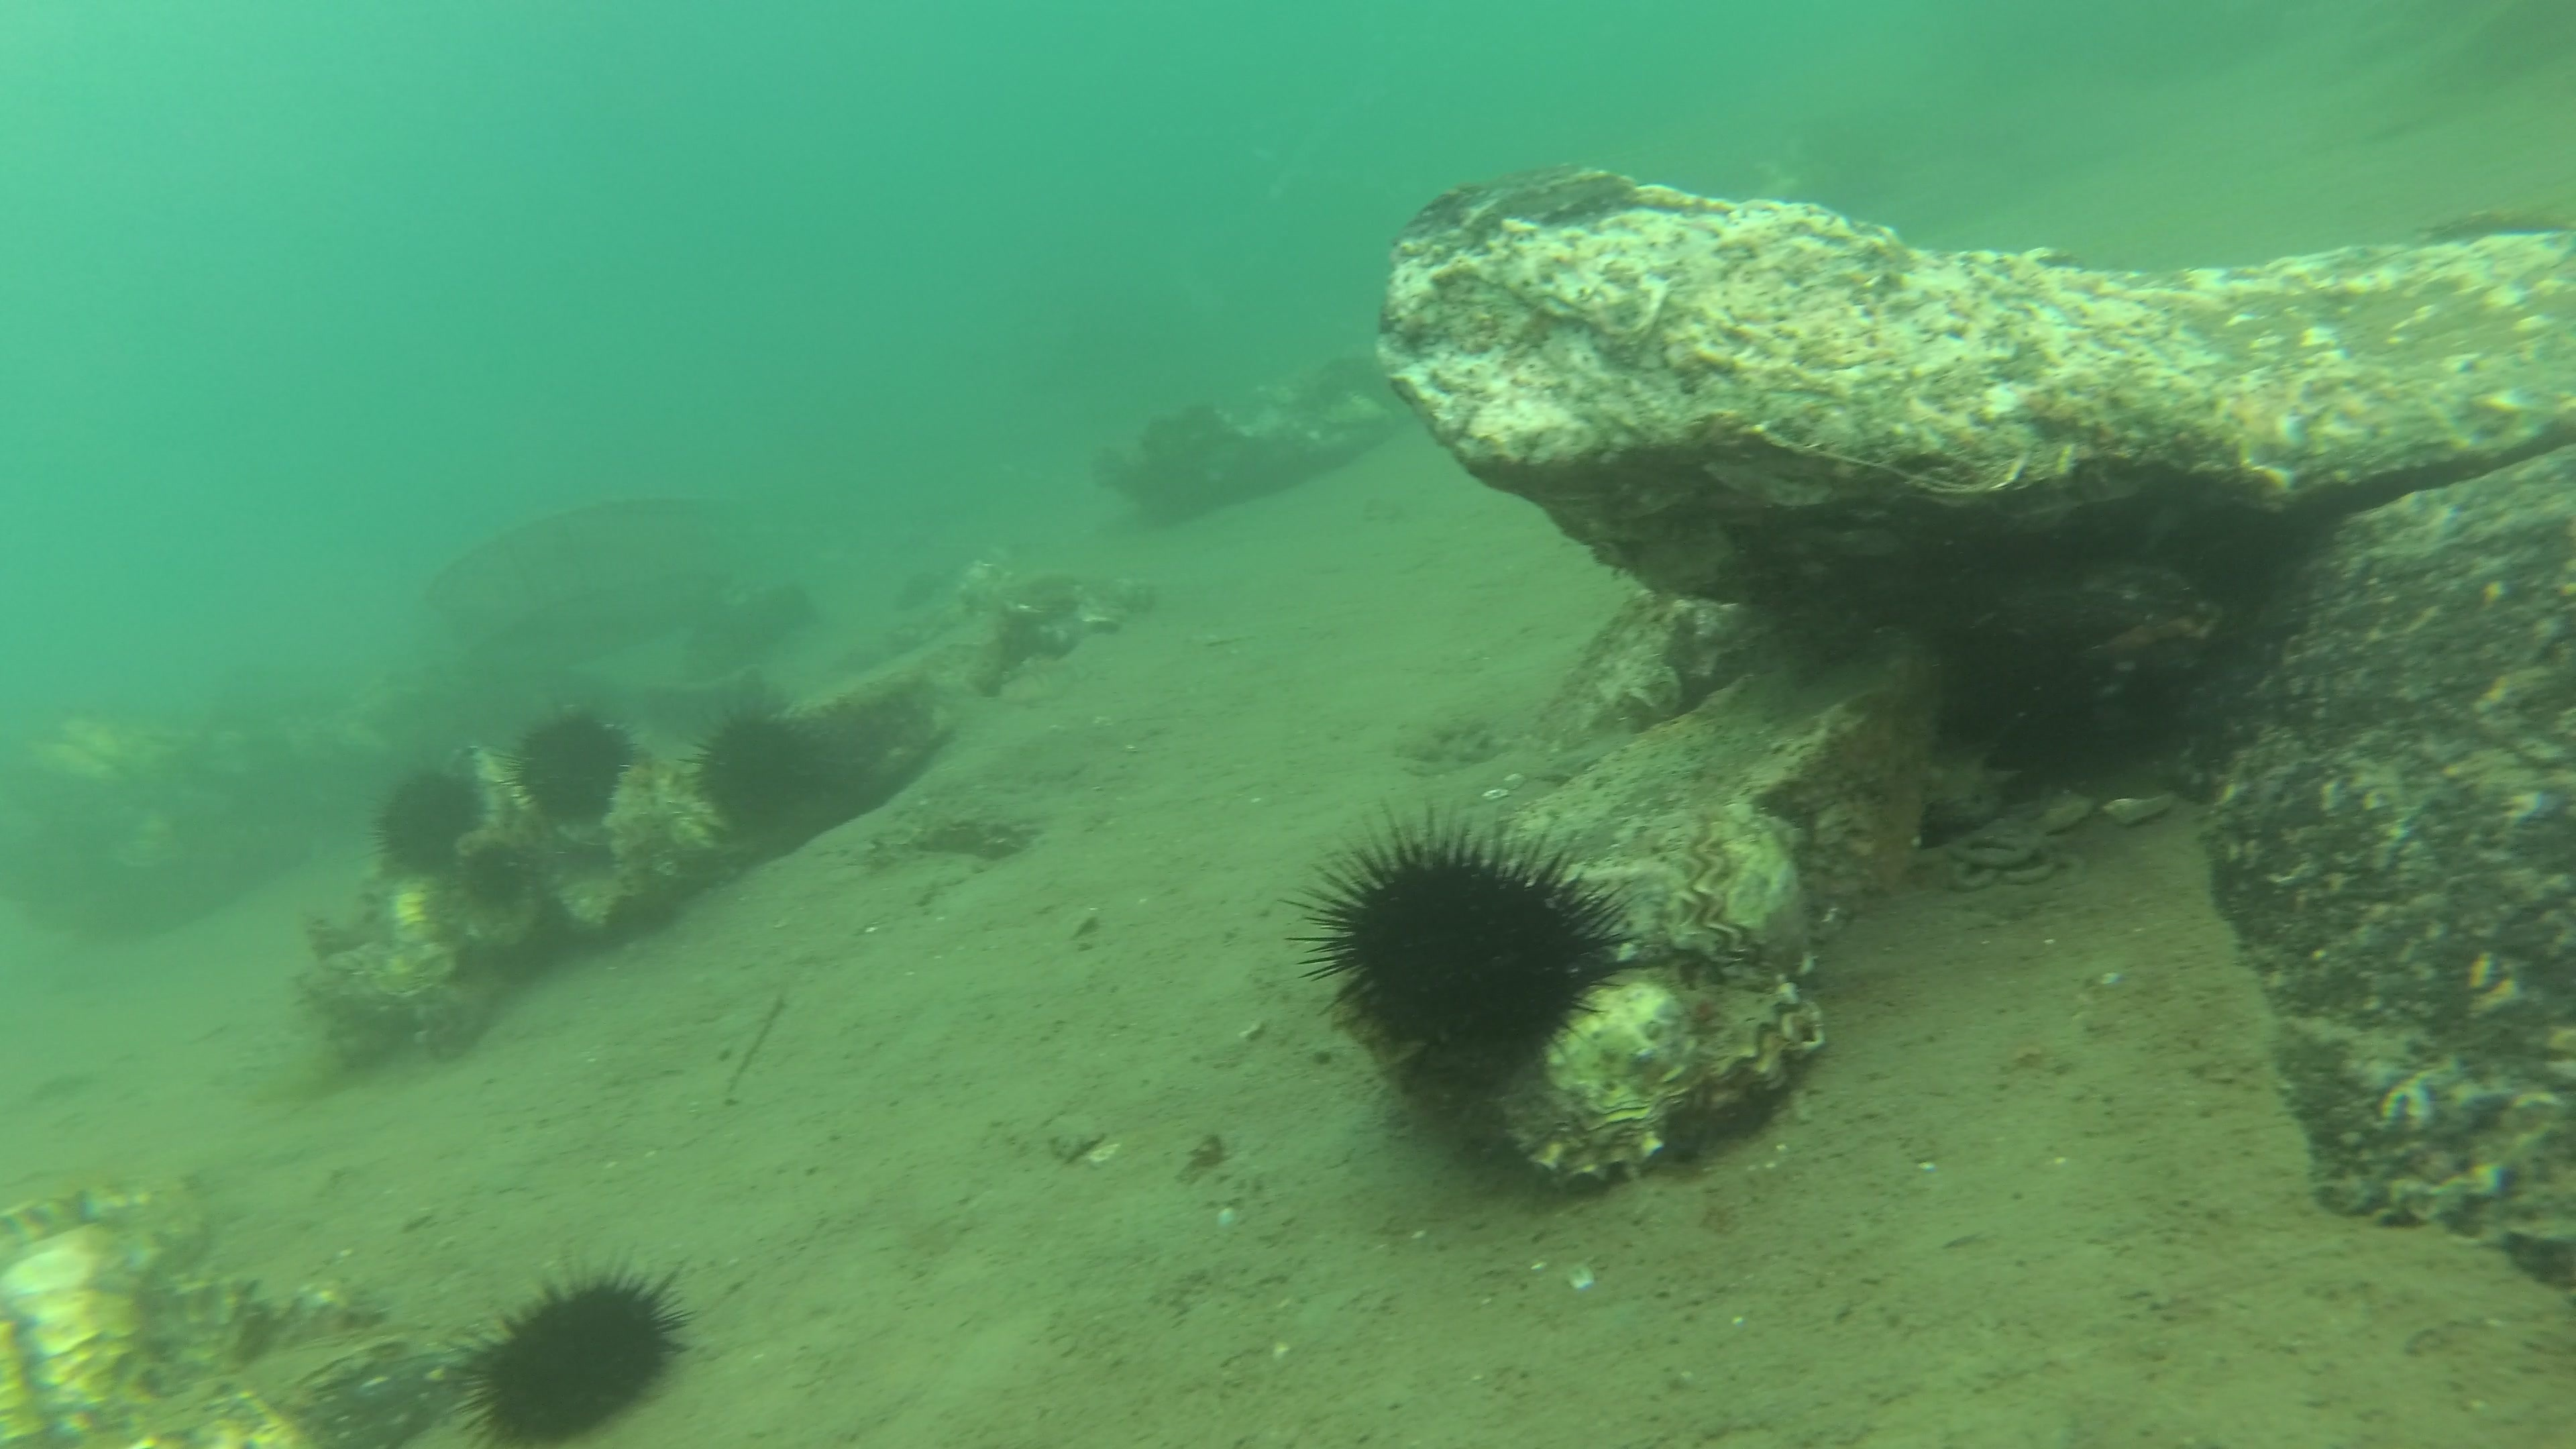echinus: (1274, 789, 1645, 1074), (449, 1254, 695, 1449), (676, 699, 823, 824), (492, 711, 648, 826), (354, 766, 497, 878), (455, 839, 525, 913)
holothurian: (1909, 732, 2015, 828)
